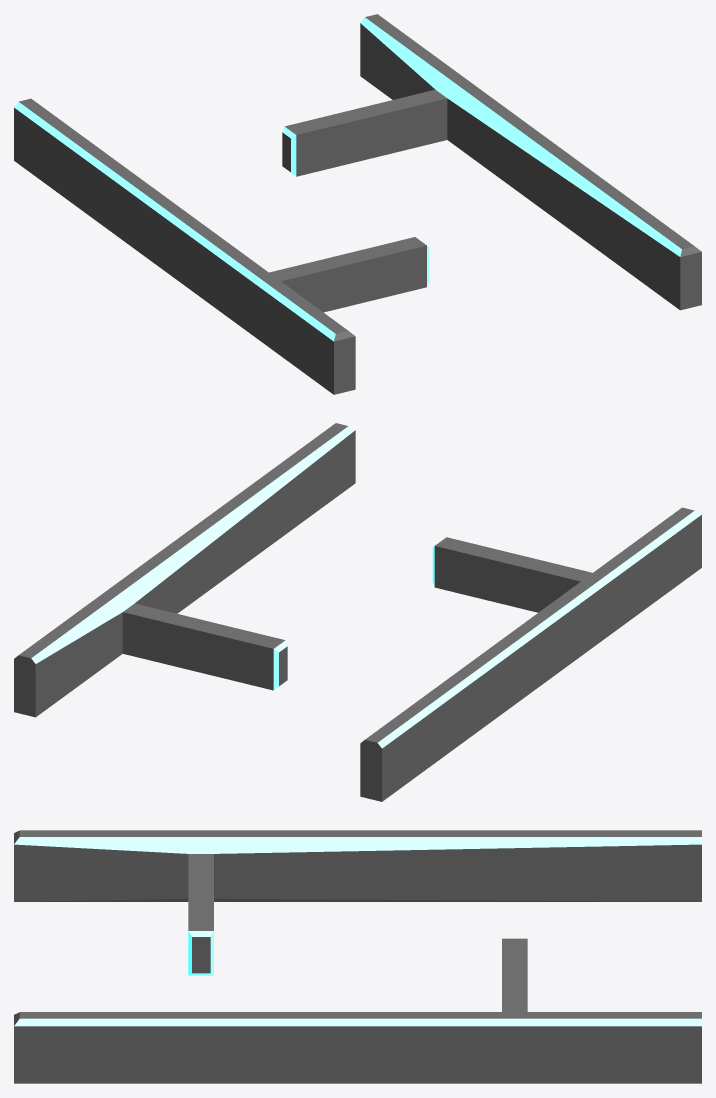
Rendered from corridor.fbx.
3 renders of one model, top to bottom at view 1: azimuth 30°, elevation 25°; view 2: azimuth 150°, elevation 25°; view 3: azimuth 270°, elevation 25°, orthographic. The views are drawn at different scales.
Visible parts, largest first — view 1: corridor; view 2: corridor; view 3: corridor.
Part boxes in pixels (x1=…): corridor: x1=14, y1=14, x2=701, y2=394; corridor: x1=14, y1=423, x2=701, y2=801; corridor: x1=14, y1=830, x2=701, y2=1083.
Bounding box in the file's own units: 1328 × 200 × 2000.
